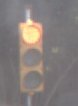Red: (17, 21, 46, 94)
